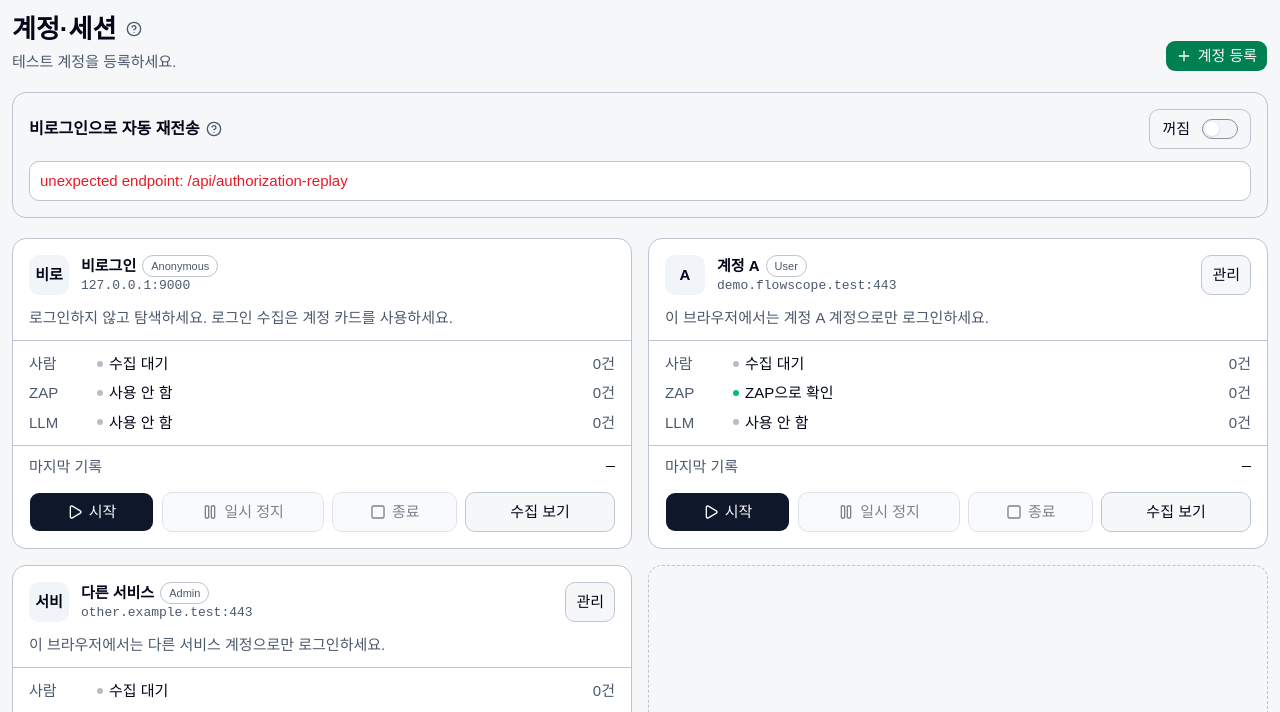
Test: account and session management › keeps the user on the account page when the browser fails to open
Click the button with aria-label "계정 A 수집 시작" at (727, 512), box [665,492,790,532]
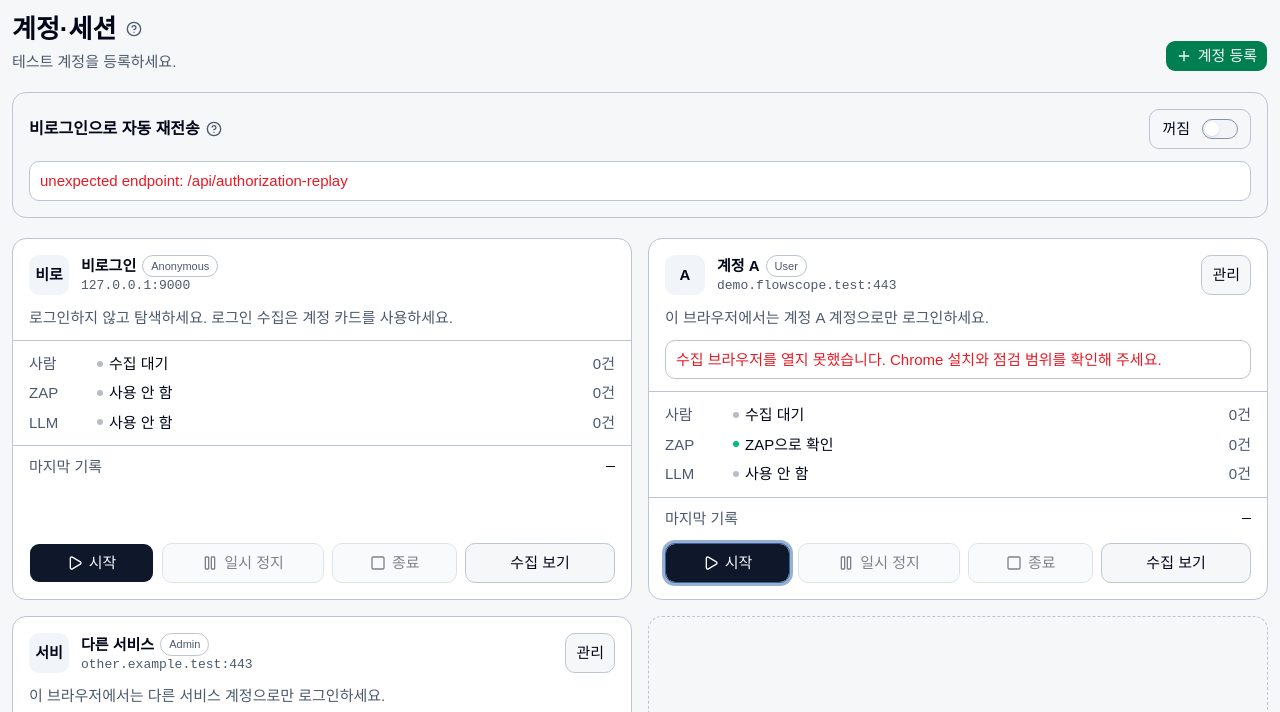
Expected: the text "수집 브라우저를 열지 못했습니다. Chrome 설치와 점검 범위를 확인해 주세요." is shown, [676,349,1240,370]
